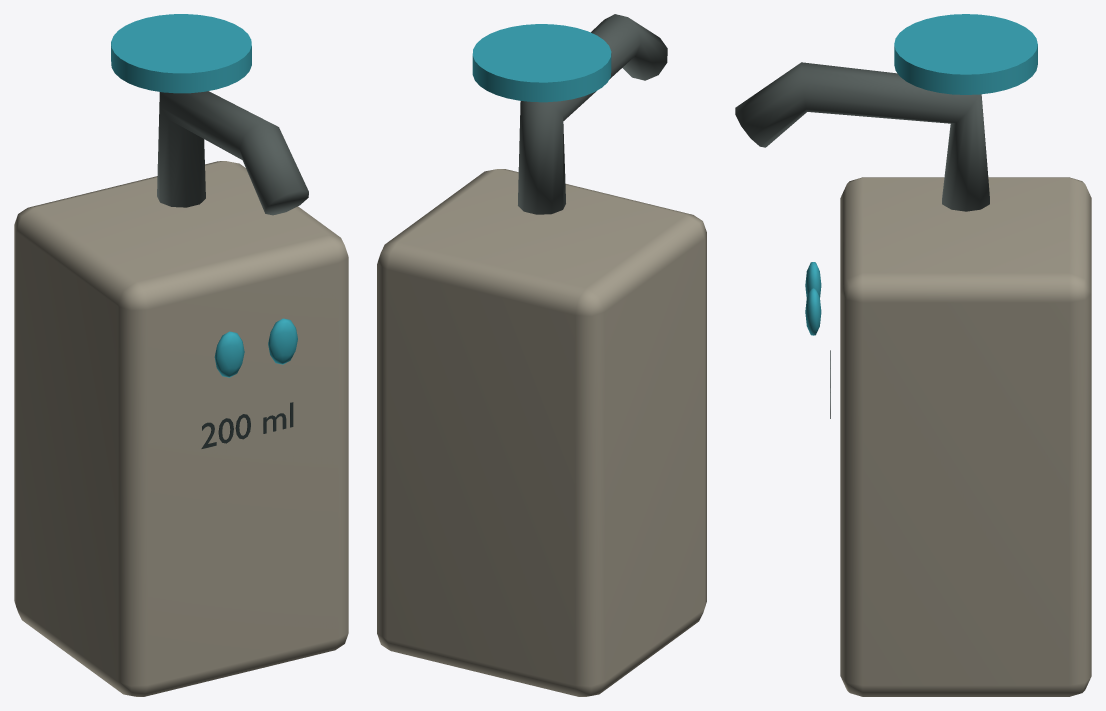
The model's file is SM_Prop_Inflow_200ml.fbx.
3 renders of one model, left to right at view 1: azimuth 30°, elevation 25°; view 2: azimuth 150°, elevation 25°; view 3: azimuth 270°, elevation 25°, orthographic. The views are drawn at different scales.
Visible parts, largest first — view 1: Tap_plinth.001, Tap_spout.001, Tap_action_top.001, Tap_drop_0.001, Tap_drop_1, Tap_volume.001; view 2: Tap_plinth.001, Tap_action_top.001, Tap_spout.001; view 3: Tap_plinth.001, Tap_spout.001, Tap_action_top.001, Tap_drop_1.
Part boxes in pixels (<box>): Tap_plinth.001: <box>14,161,348,696</box>; Tap_spout.001: <box>157,91,308,215</box>; Tap_action_top.001: <box>111,14,251,93</box>; Tap_drop_0.001: <box>214,331,244,377</box>; Tap_drop_1: <box>268,318,297,364</box>; Tap_volume.001: <box>201,402,293,448</box>; Tap_plinth.001: <box>377,169,706,696</box>; Tap_action_top.001: <box>472,24,611,102</box>; Tap_spout.001: <box>518,14,667,214</box>; Tap_plinth.001: <box>840,177,1091,696</box>; Tap_spout.001: <box>735,62,989,211</box>; Tap_action_top.001: <box>894,14,1037,94</box>; Tap_drop_1: <box>805,288,821,335</box>.
Size of what is drawn, in the model's own units: 30 by 39.7 by 74.25.
